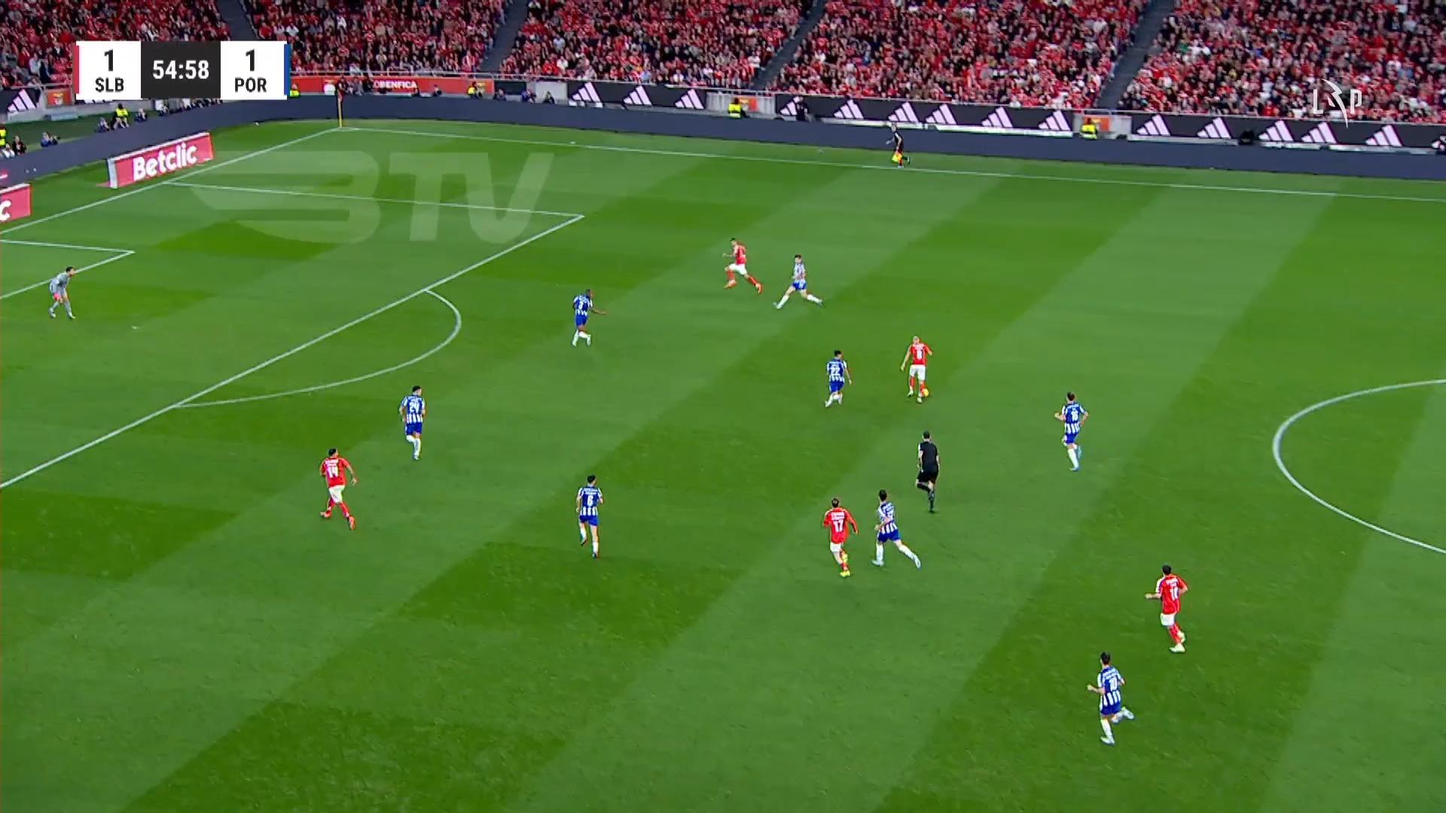ball: (840, 551, 847, 564)
goalkeeper: (47, 265, 76, 319)
player: (1085, 650, 1134, 745), (869, 489, 921, 569), (1143, 563, 1188, 653), (319, 446, 358, 530), (822, 496, 858, 577), (773, 253, 824, 309), (1053, 390, 1088, 471), (574, 473, 604, 559), (721, 236, 762, 294), (899, 334, 932, 403), (398, 385, 427, 461), (570, 288, 606, 347), (823, 349, 852, 407)
referee: (914, 430, 940, 513), (885, 121, 911, 169)
